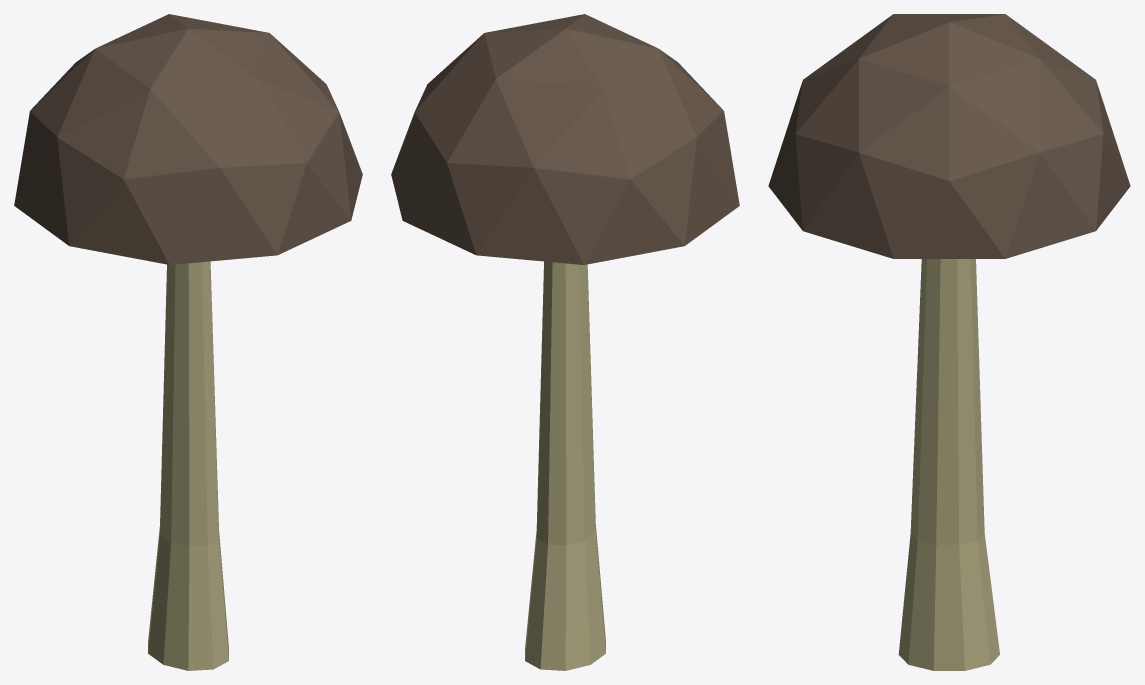
The model's file is mushroom02_brown.fbx.
3 renders of one model, left to right at view 1: azimuth 30°, elevation 25°; view 2: azimuth 150°, elevation 25°; view 3: azimuth 270°, elevation 25°, orthographic.
Parts seen in each view (by area): view 1: mushroom02_brown; view 2: mushroom02_brown; view 3: mushroom02_brown.
Boxes of the visible parts, <box> form: mushroom02_brown: <box>14,14,362,670</box>; mushroom02_brown: <box>391,14,739,670</box>; mushroom02_brown: <box>768,14,1130,670</box>.
Bounding box in the file's own units: 46.13 × 93.47 × 48.51.
